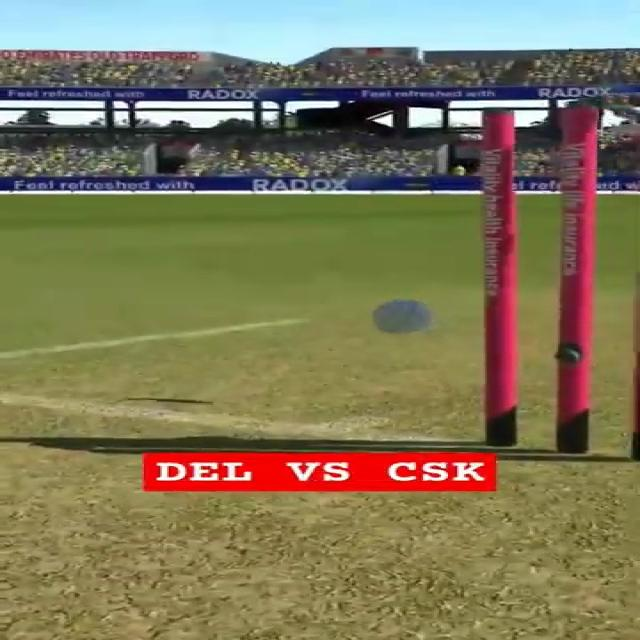ball: (370, 298, 436, 336)
